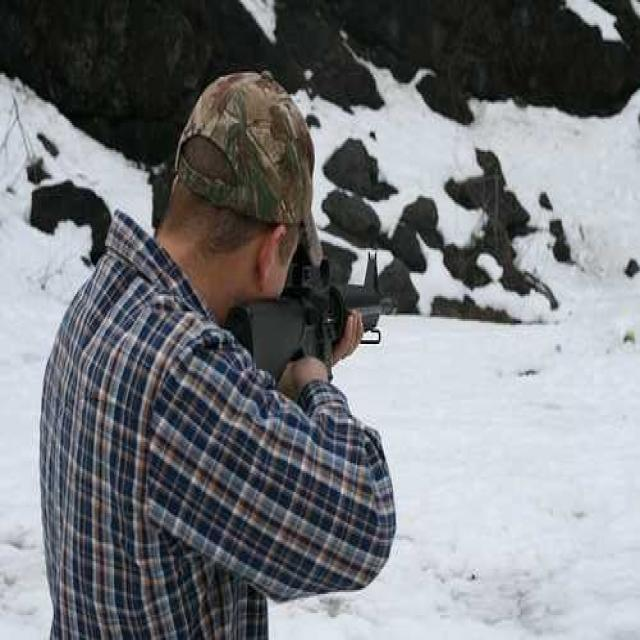weapon: (230, 223, 432, 421)
